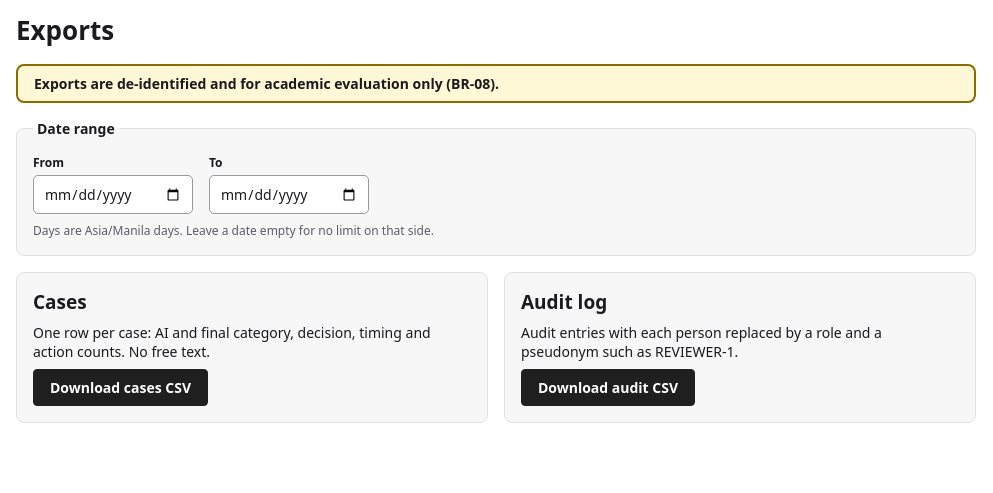
Test case: failures › explains a refusal for lack of permission
Click the button "Download audit CSV".
click(608, 388)  # box [521, 369, 695, 406]
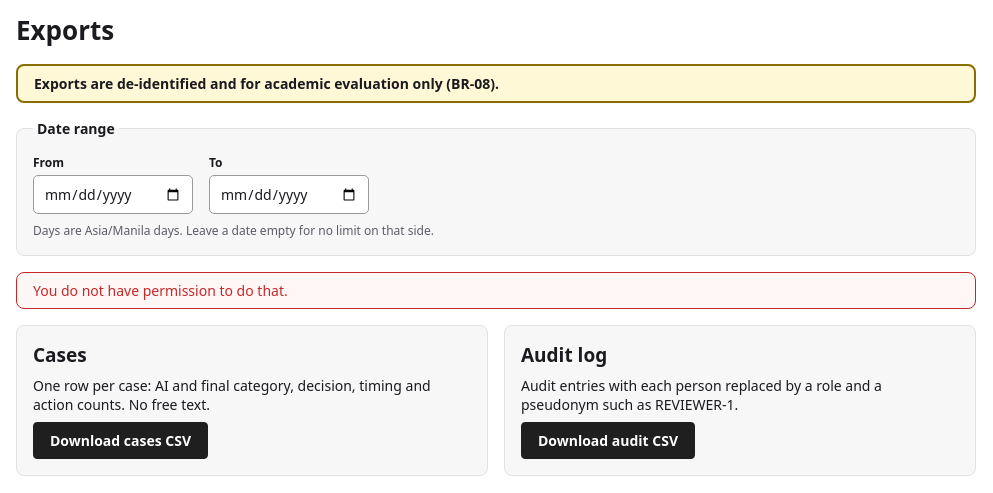
Expected: the message reads "You do not have permission to do that.", [33, 281, 288, 300]
